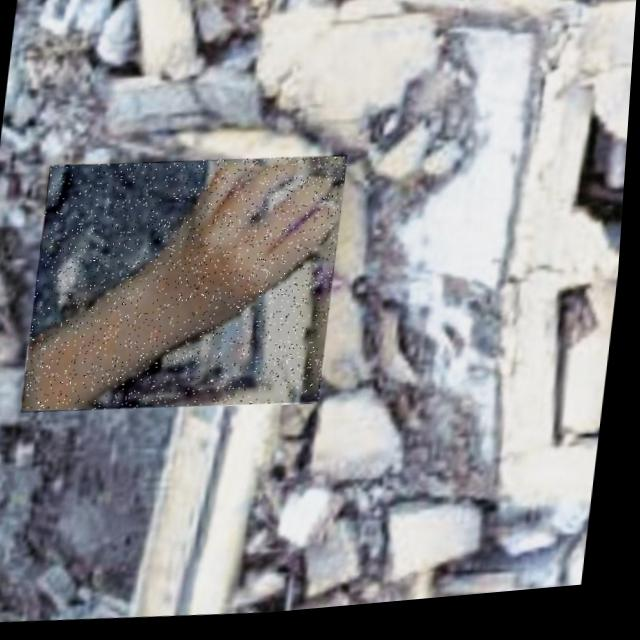Person in Rubble: (25, 146, 350, 429)
